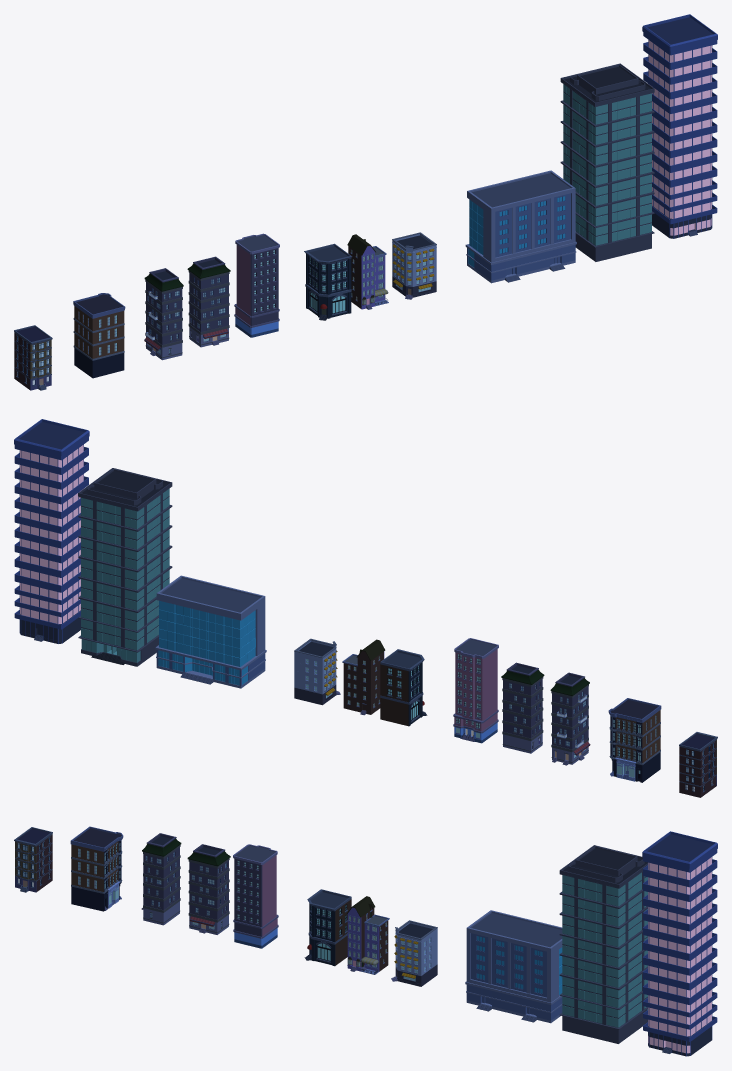
The model's file is BuildingTest4.fbx.
The picture shows the model from 3 angles, top to bottom: view 1: azimuth 30°, elevation 25°; view 2: azimuth 150°, elevation 25°; view 3: azimuth 330°, elevation 25°; orthographic projection.
Parts seen in each view (by area): view 1: skyB-Model.003, skyD-Model.003, skyA-Model.003, resB-Model.003, cornerD-Model.003, NOcornerC-Model.003, cornerC-Model.003, cornerA-Model.003, cornerB-Model.003, resC-Model.003, resA-Model.003; view 2: skyB-Model.003, skyD-Model.003, skyA-Model.003, resB-Model.003, cornerD-Model.003, NOcornerC-Model.003, cornerC-Model.003, cornerA-Model.003, cornerB-Model.003, resC-Model.003, resA-Model.003; view 3: skyB-Model.003, skyD-Model.003, skyA-Model.003, resB-Model.003, cornerD-Model.003, NOcornerC-Model.003, cornerC-Model.003, cornerA-Model.003, resC-Model.003, cornerB-Model.003, resA-Model.003.
Part boxes in pixels (x1,y1,x2,y2): skyB-Model.003: (560,63,654,261); skyD-Model.003: (642,14,717,238); skyA-Model.003: (465,170,576,283); resB-Model.003: (234,233,279,337); cornerD-Model.003: (73,293,125,378); NOcornerC-Model.003: (187,256,230,347); cornerC-Model.003: (144,268,183,360); cornerA-Model.003: (304,243,352,320); cornerB-Model.003: (392,232,436,299); resC-Model.003: (347,234,388,309); resA-Model.003: (14,325,52,390); skyB-Model.003: (78,468,172,666); skyD-Model.003: (14,419,89,643); skyA-Model.003: (155,575,266,688); resB-Model.003: (453,638,498,743); cornerD-Model.003: (608,698,661,782); NOcornerC-Model.003: (501,662,544,753); cornerC-Model.003: (550,672,590,765); cornerA-Model.003: (380,649,427,726); cornerB-Model.003: (294,638,340,705); resC-Model.003: (342,639,385,715); resA-Model.003: (679,732,717,797); skyB-Model.003: (559,845,647,1043); skyD-Model.003: (642,831,717,1056); skyA-Model.003: (465,910,562,1023); resB-Model.003: (233,844,278,948); cornerD-Model.003: (70,826,123,911); NOcornerC-Model.003: (187,844,230,934); cornerC-Model.003: (141,833,181,925); cornerA-Model.003: (304,889,351,966); resC-Model.003: (347,896,389,974); cornerB-Model.003: (391,920,437,986); resA-Model.003: (14,827,52,892).
Size of the model in its own units: 340 by 93.2 by 30.39.
